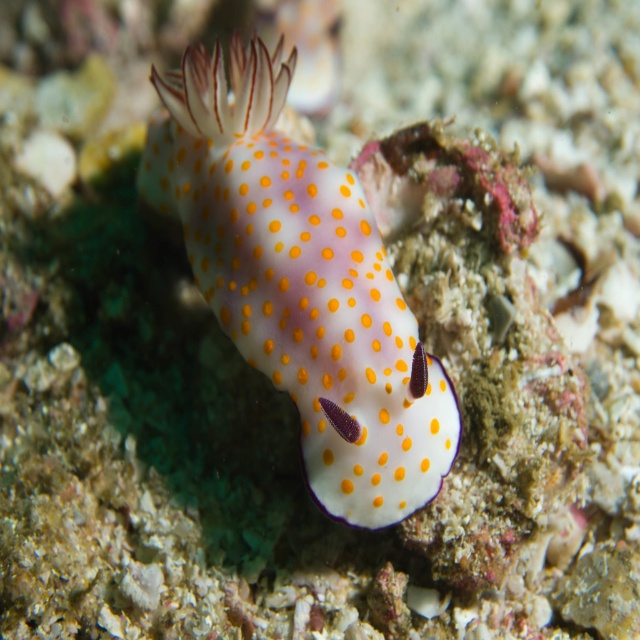Fish: (151, 132, 461, 538)
